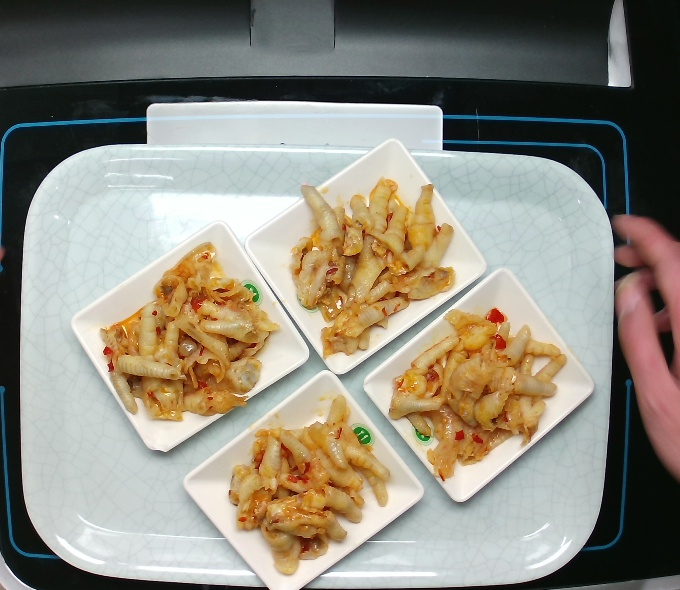wcq-LuJiZhua: (278, 152, 466, 363), (382, 286, 572, 486), (88, 236, 288, 426), (214, 385, 395, 578)
